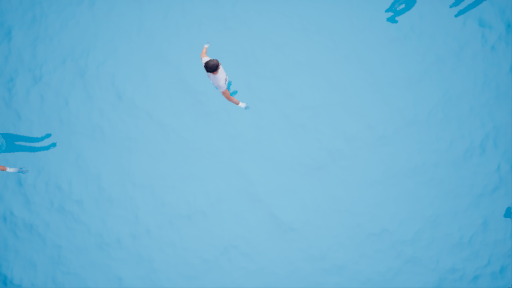person: (199, 46, 260, 112)
